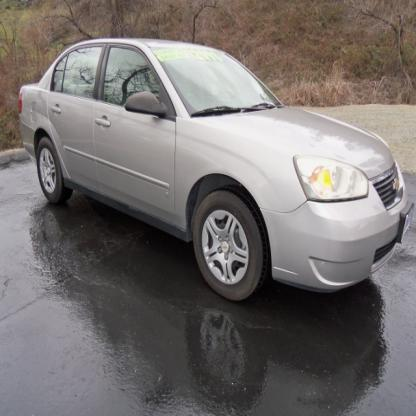Vehicle: (12, 20, 415, 335)
